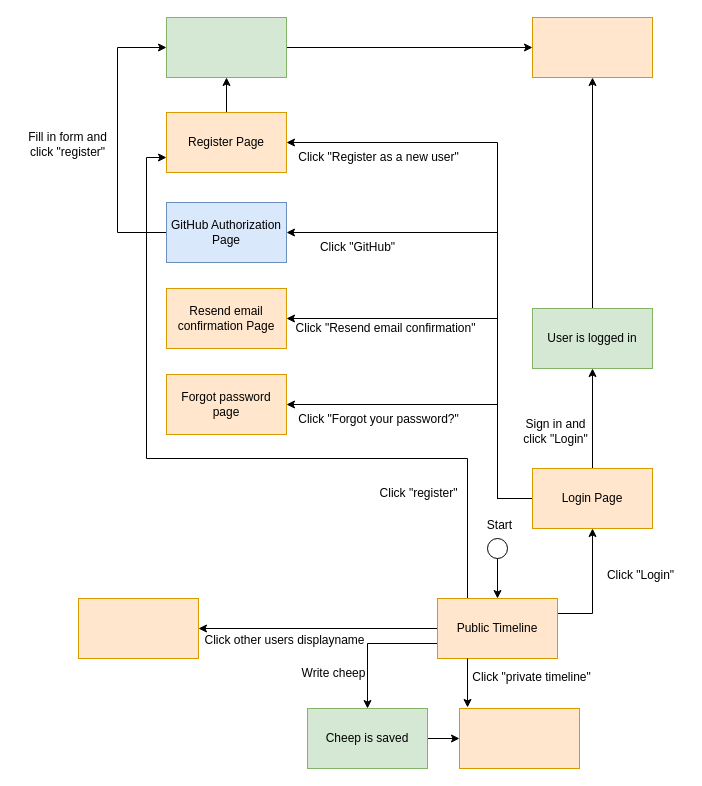
Some shapes in this 702 by 786 pixel diagram are drawn without their labels. The centre of each missing label's shape, as x and y in pixels:
Other users private timeline: pixel 138 628
Private Timeline: pixel 519 738
Public timeline (Logged in): pixel 592 47
User is saved and logged in: pixel 226 47
